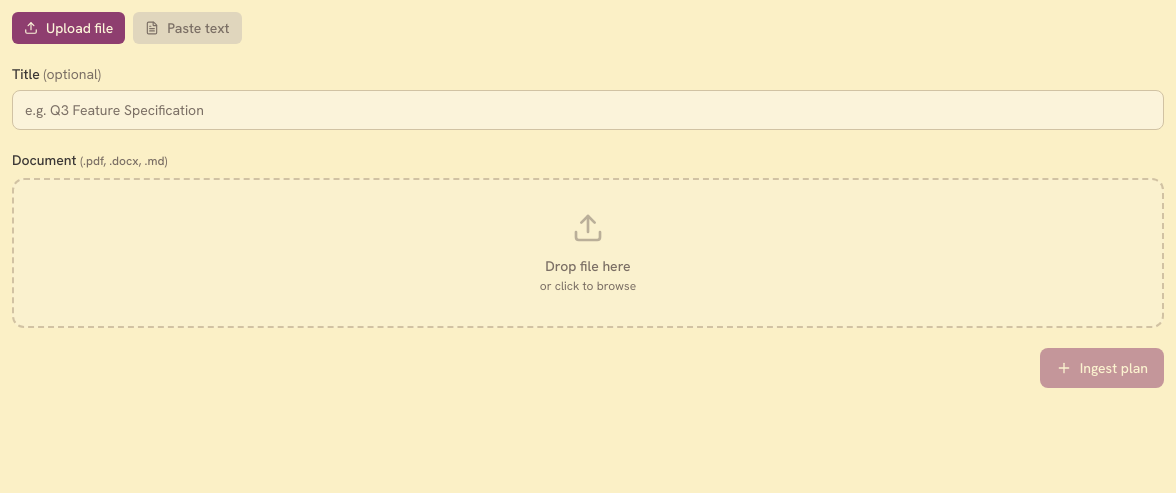
it: <PlanUploadForm> › switches to text mode when Paste text is clicked
What coordinates should you click on to do the following:
click the button "Paste text"
I would click on:
 (187, 28)
Its box is [133,12,242,44].
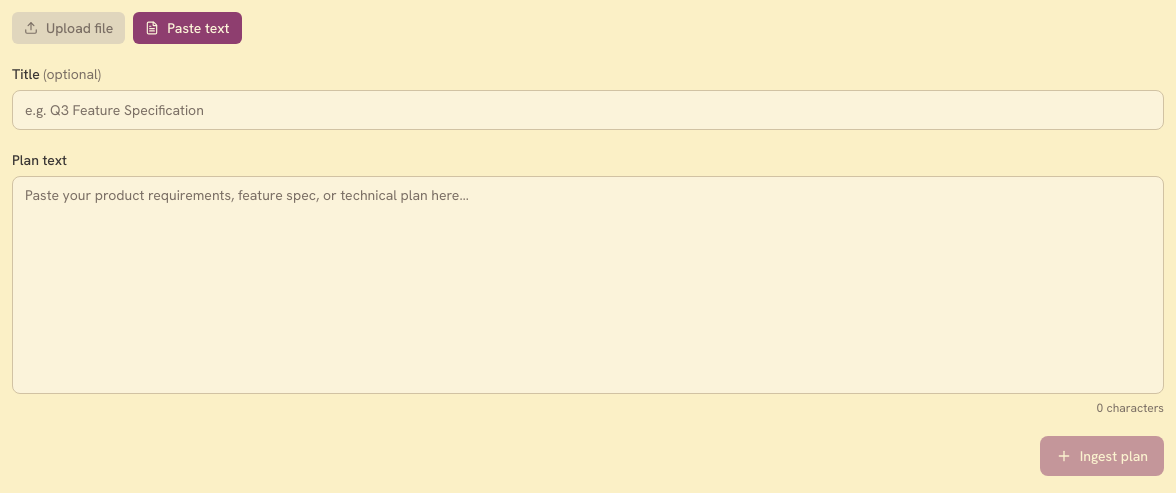
Expected: the text box with test id "plan-text-input" is shown, [12,176,1164,394]
